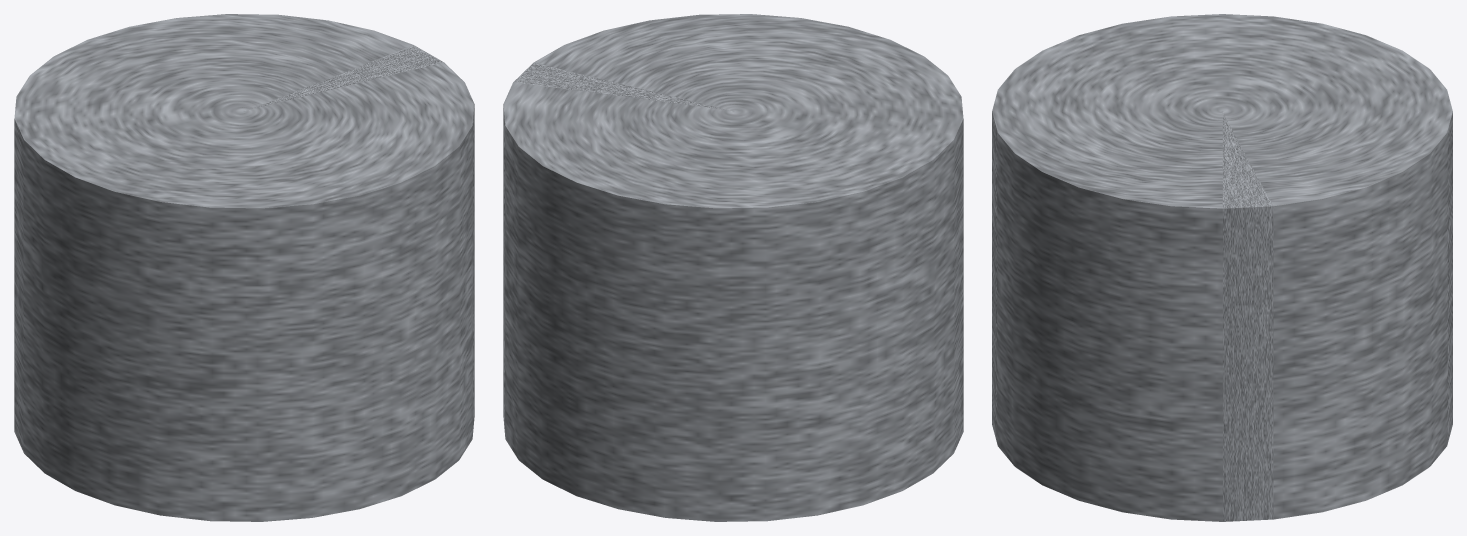
The model's file is spacer_short.obj.
The picture shows the model from 3 angles, left to right: view 1: azimuth 30°, elevation 25°; view 2: azimuth 150°, elevation 25°; view 3: azimuth 270°, elevation 25°; orthographic projection.
Size of the model in its own units: 0.04 by 0.03 by 0.04.
Materials: 1 (1 with a texture image).
